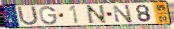1: (68, 5, 80, 25)
8: (135, 5, 153, 23)
G: (39, 6, 59, 26)
N: (85, 4, 110, 25), (112, 4, 134, 24)
U: (16, 5, 41, 27)
